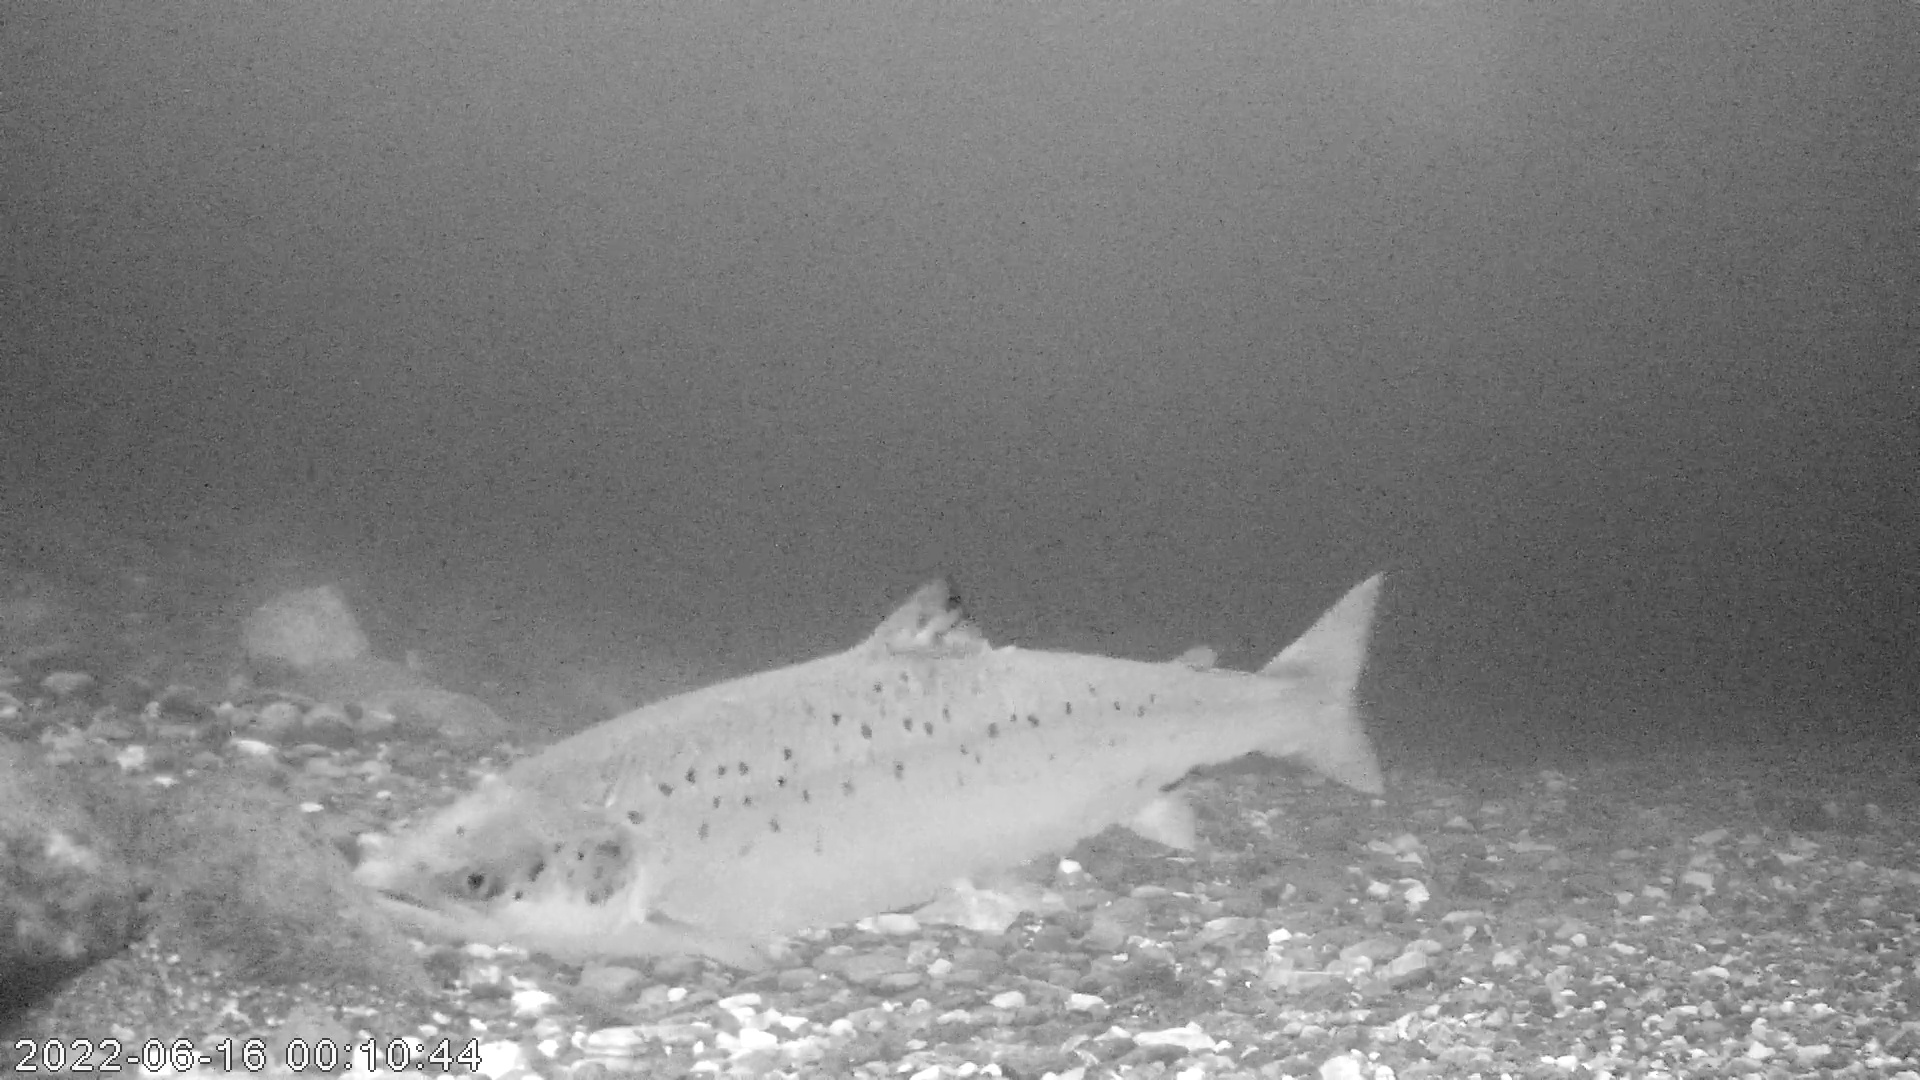salmon: (351, 568, 1395, 965)
